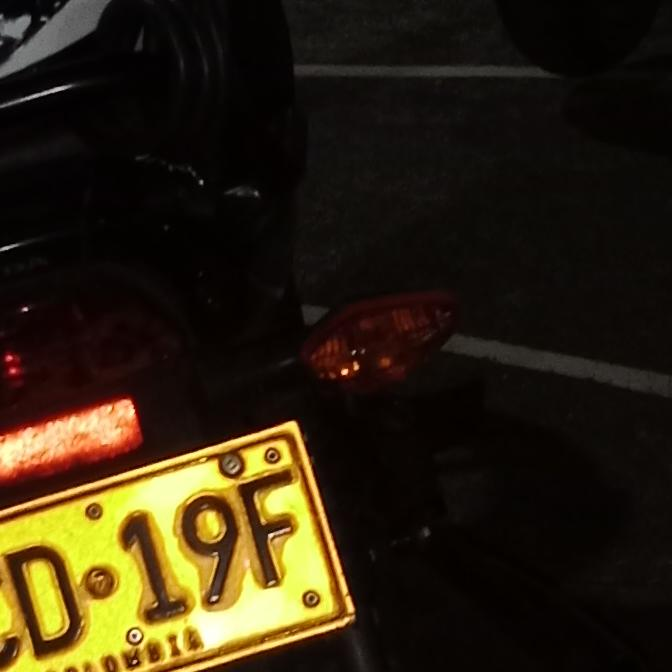plates: (0, 419, 364, 672)
